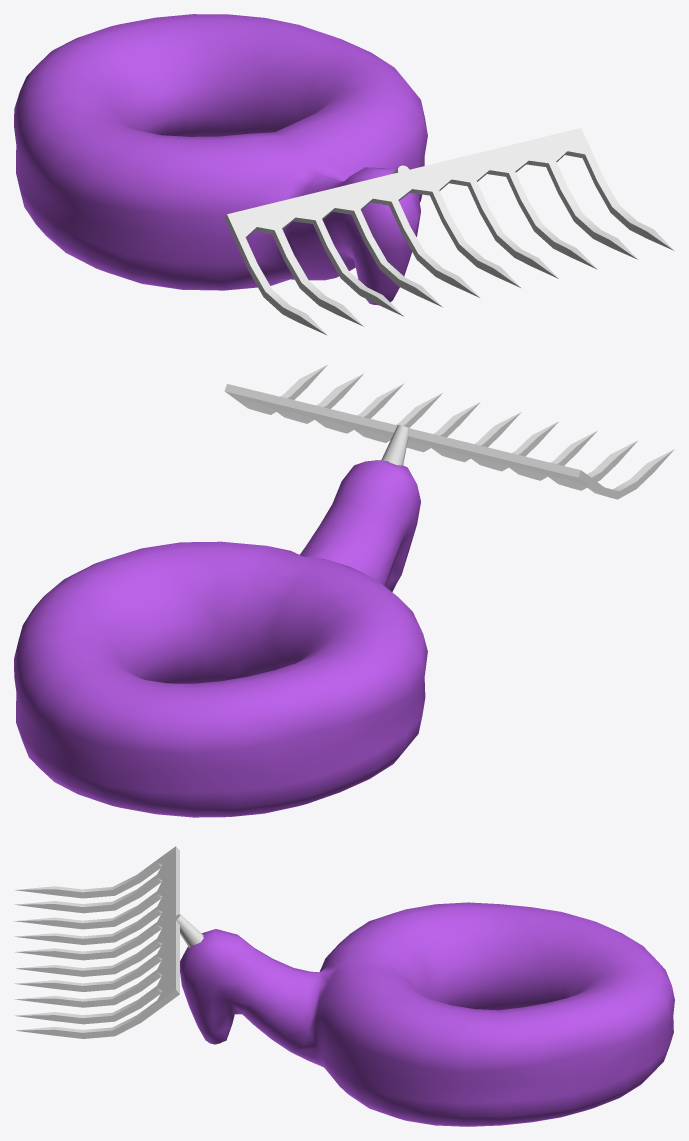
Rendered from deer_low.fbx.
3 renders of one model, top to bottom at view 1: azimuth 30°, elevation 25°; view 2: azimuth 150°, elevation 25°; view 3: azimuth 270°, elevation 25°, orthographic. The views are drawn at different scales.
Parts seen in each view (by area): view 1: deer_low, rake_low; view 2: deer_low, rake_low; view 3: deer_low, rake_low.
Boxes of the visible parts, left/top/right/bottom form: deer_low: left=14, top=14, right=427, bottom=305; rake_low: left=224, top=128, right=674, bottom=335; deer_low: left=14, top=460, right=427, bottom=817; rake_low: left=224, top=365, right=674, bottom=499; deer_low: left=180, top=902, right=674, bottom=1126; rake_low: left=14, top=846, right=203, bottom=1038.
Size of the model in its own units: 148 by 75.7 by 285.
